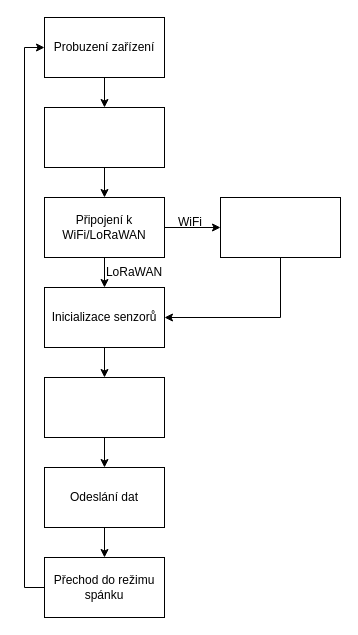
Image size: 358x635. Some labels were removed from this diagram. Each missing label, with the box of its shape:
Připojení k MQTT: (220, 196, 340, 258)
Zapnutí napájení senzorů: (44, 106, 164, 168)
Změření dat: (44, 376, 164, 438)
